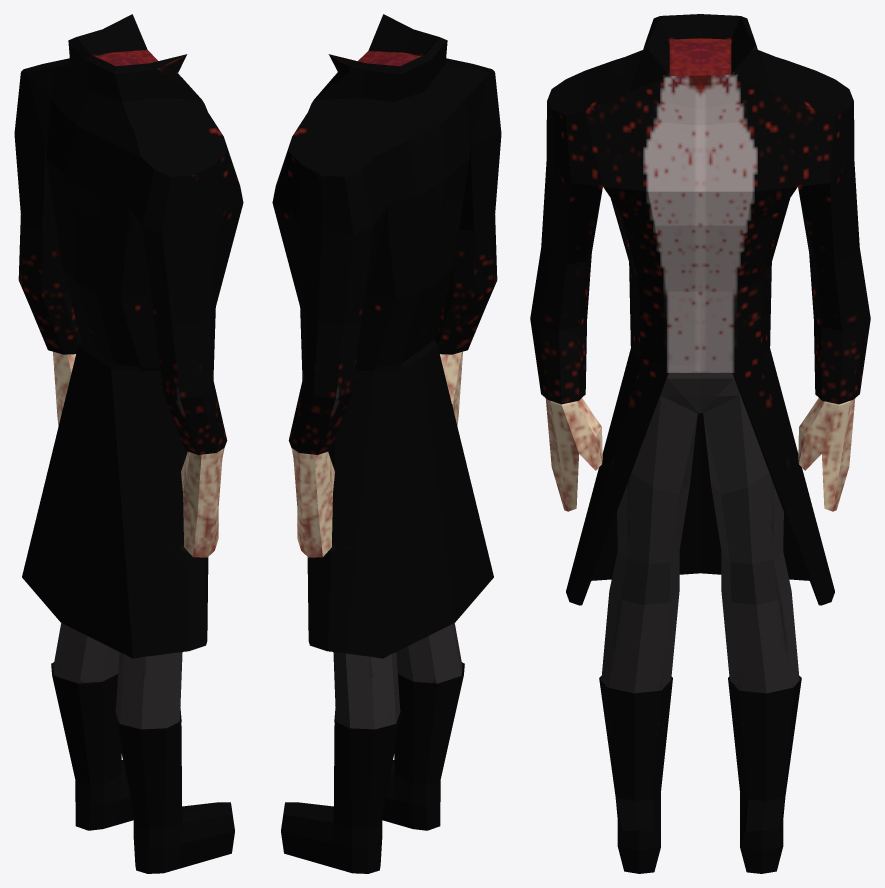
Rendered from veio.fbx.
The picture shows the model from 3 angles, left to right: view 1: azimuth 30°, elevation 25°; view 2: azimuth 150°, elevation 25°; view 3: azimuth 270°, elevation 25°; orthographic projection.
Visible parts, largest first — view 1: Cube; view 2: Cube; view 3: Cube.
Boxes of the visible parts, box(x1,y1,x2,y2) form: Cube: box(14, 14, 243, 873); Cube: box(272, 14, 501, 873); Cube: box(530, 14, 870, 873).
Size of the model in its own units: 38.52 by 201 by 76.59.
